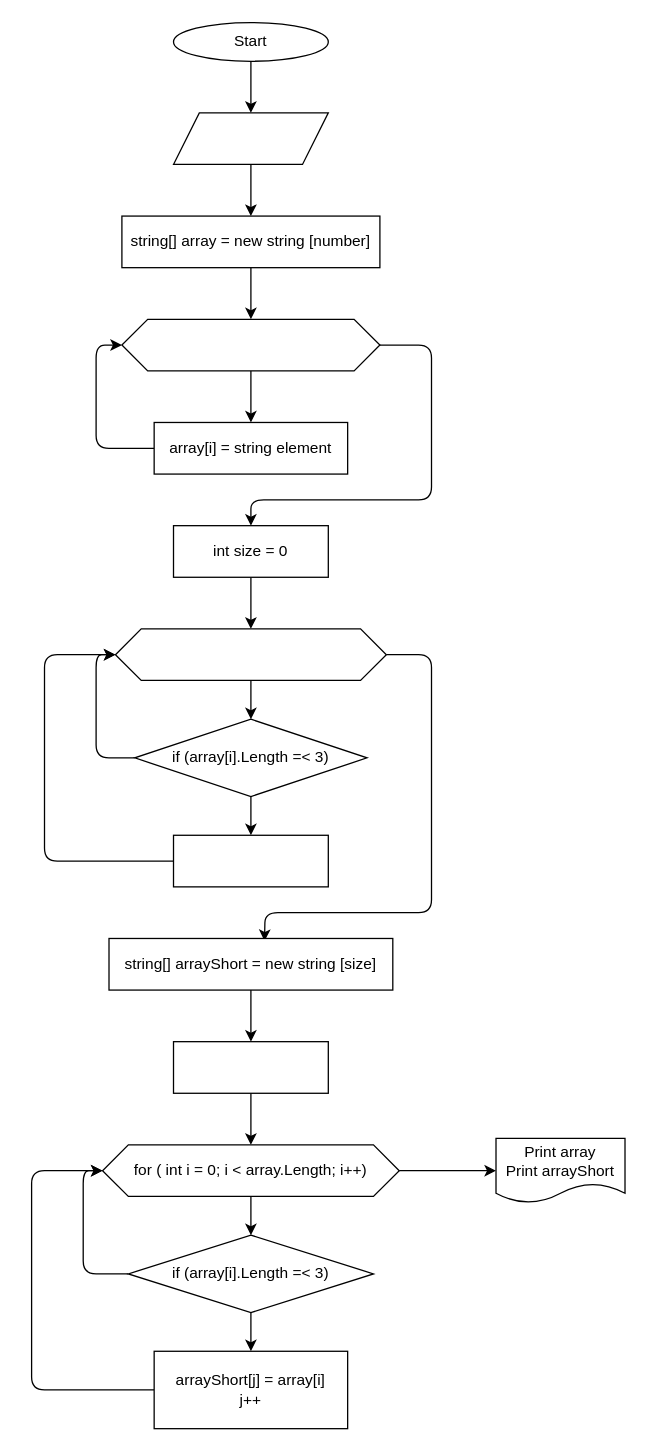
The diagram is 648 pixels wide and 1451 high, and some of its shapes have lost their labels. The centre of each missing label's shape, as x and y in pixels:
"for ( int i = 0; i < number; i++)" goes at [250,344].
"for ( int i = 0; i < size; i++)" goes at [250,654].
"int j" goes at [250,1066].
"int number" goes at [250,138].
"size++" goes at [250,860].
